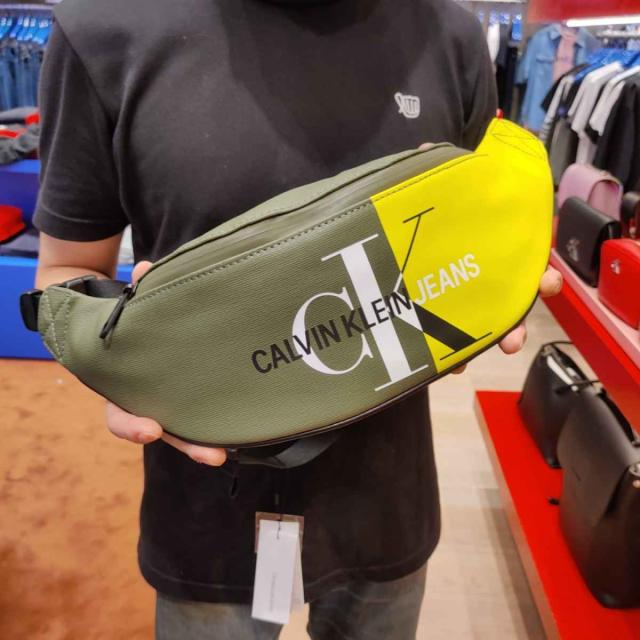Handbag: (20, 118, 554, 449)
